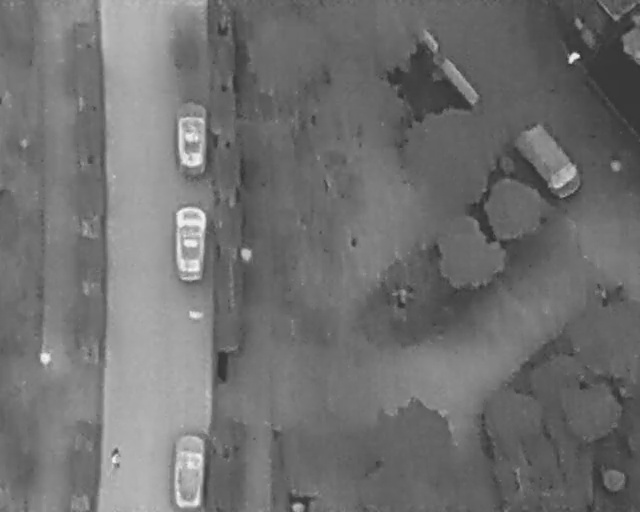Car: (513, 118, 588, 201), (172, 431, 207, 508), (175, 100, 207, 177), (175, 205, 206, 284)
Person: (568, 48, 581, 67)
